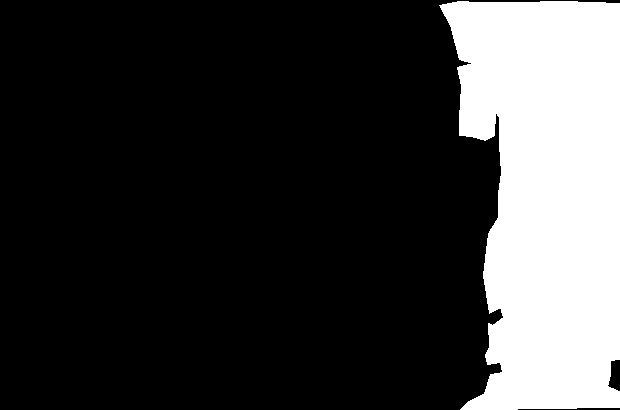type4: (429, 2, 620, 409)
